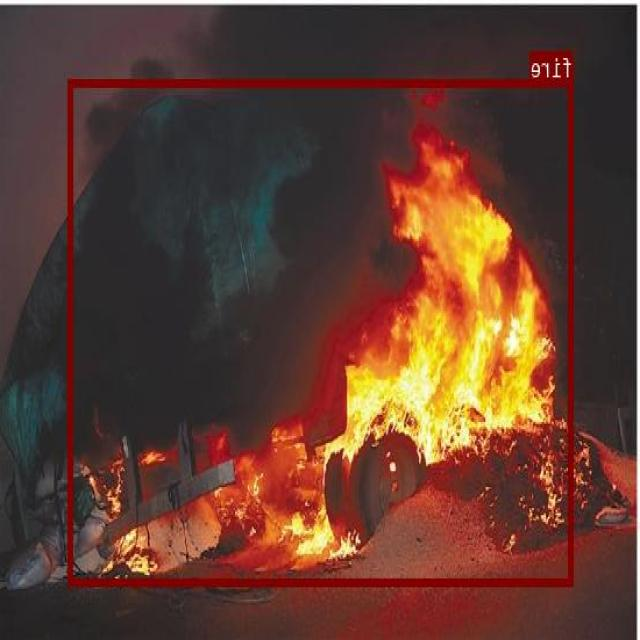fire: (69, 79, 574, 586)
